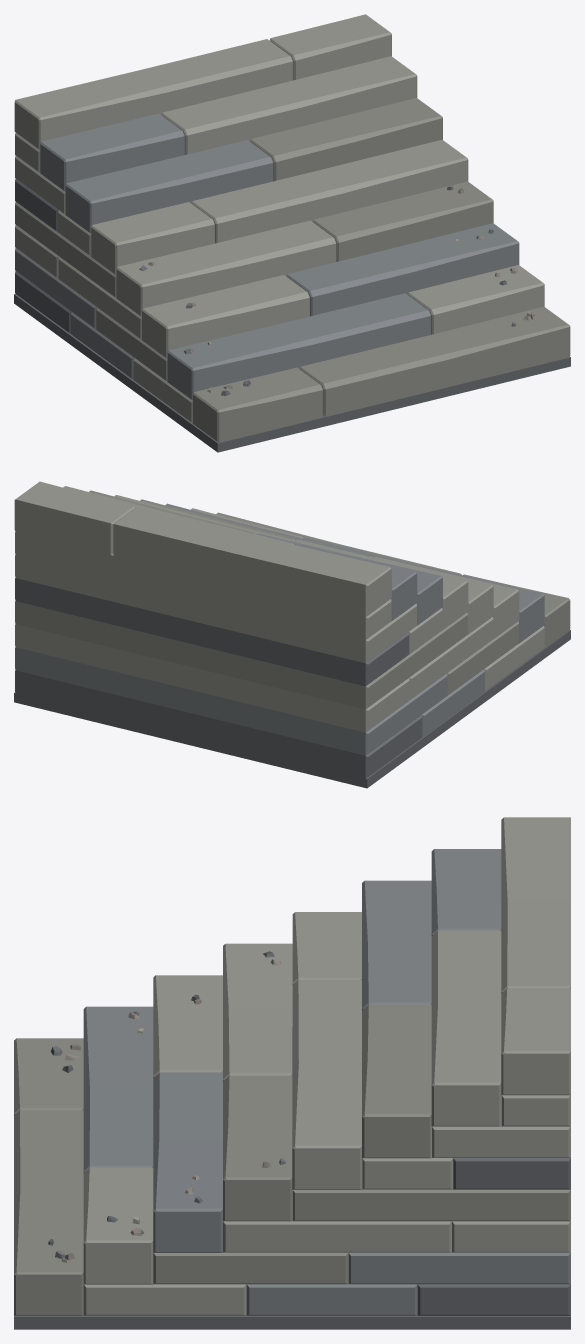
The model's file is SM_LPD_Struct_StairHalfFlight_01.fbx.
The picture shows the model from 3 angles, top to bottom: view 1: azimuth 30°, elevation 25°; view 2: azimuth 150°, elevation 25°; view 3: azimuth 270°, elevation 25°; orthographic projection. The views are drawn at different scales.
Visible parts, largest first — view 1: SM_LPD_Struct_StairHalfFlight_01; view 2: SM_LPD_Struct_StairHalfFlight_01; view 3: SM_LPD_Struct_StairHalfFlight_01.
Boxes of the visible parts, left/top/right/bottom form: SM_LPD_Struct_StairHalfFlight_01: left=14, top=14, right=570, bottom=452; SM_LPD_Struct_StairHalfFlight_01: left=14, top=481, right=570, bottom=788; SM_LPD_Struct_StairHalfFlight_01: left=14, top=817, right=570, bottom=1329.
Bounding box in the file's own units: 4 × 2.2 × 4.
